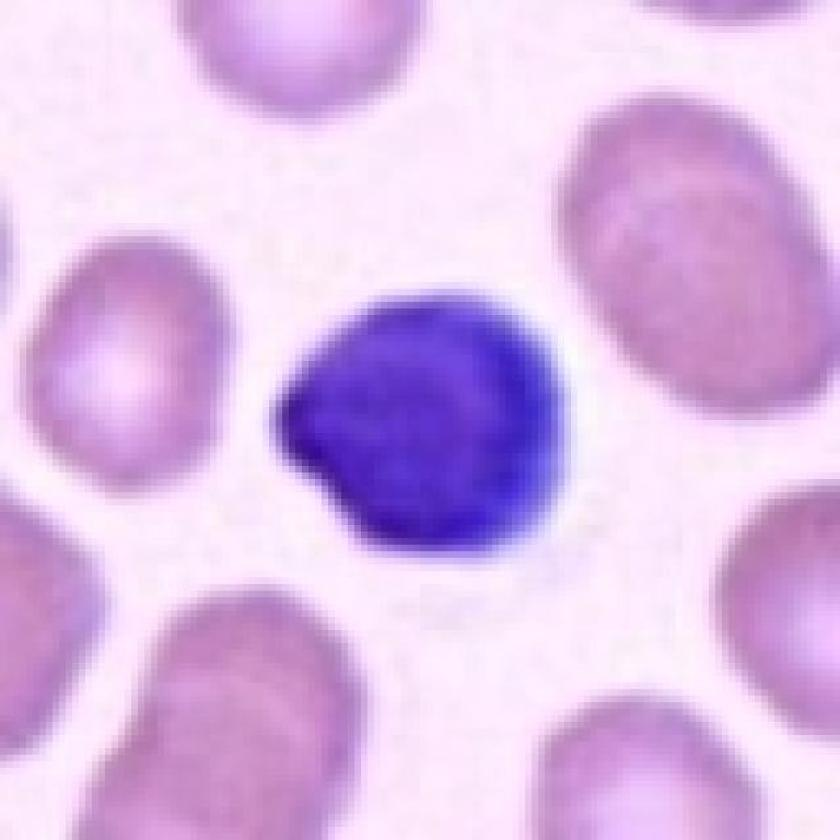lymphocyte: (261, 285, 602, 571)
